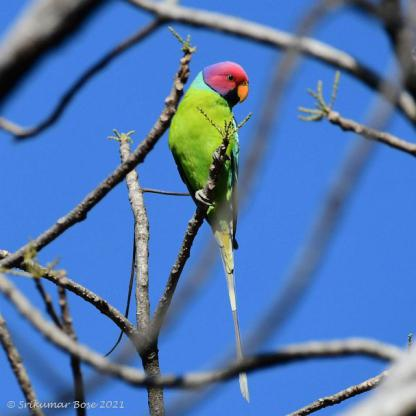Burung: (167, 60, 249, 402)
